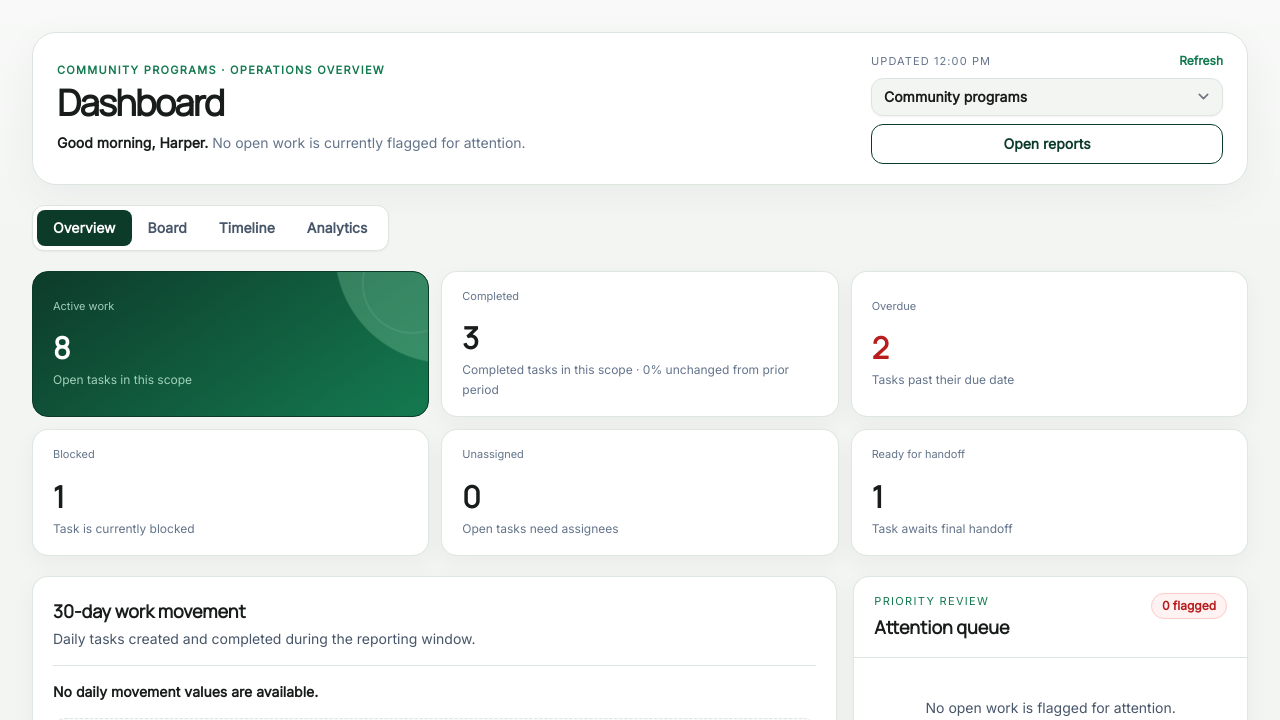
Test case: DashboardPage personal tasks › keeps the current department and reveals self-assigned tasks behind the selected total
This screenshot has width=1280, height=720.
What coordinates should you click on to do the following:
click the button "Overdue 2 Tasks past their due date"
I would click on:
 (894, 306)
Its box is [851,270,1248,417].
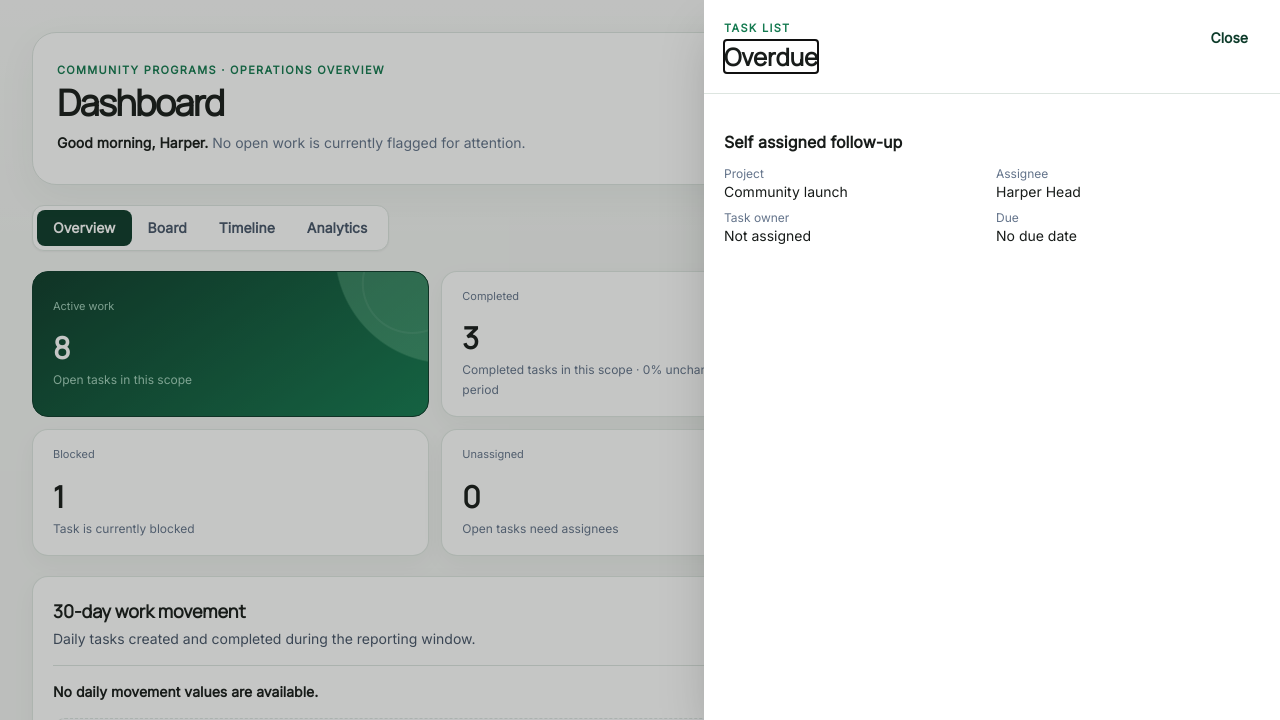
Result: the dialog shows "Overdue" at [724,40,818,72]
Result: the text "Self assigned follow-up" is shown at [724,132,902,152]
